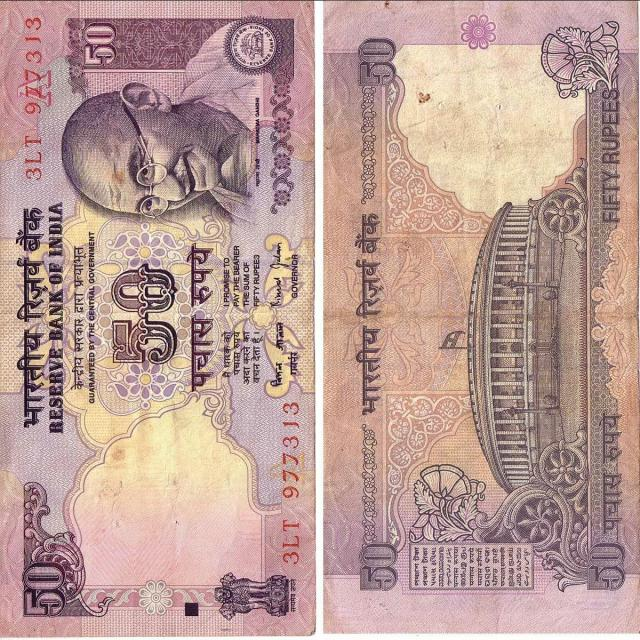50IndianRupees: (334, 0, 640, 638)
